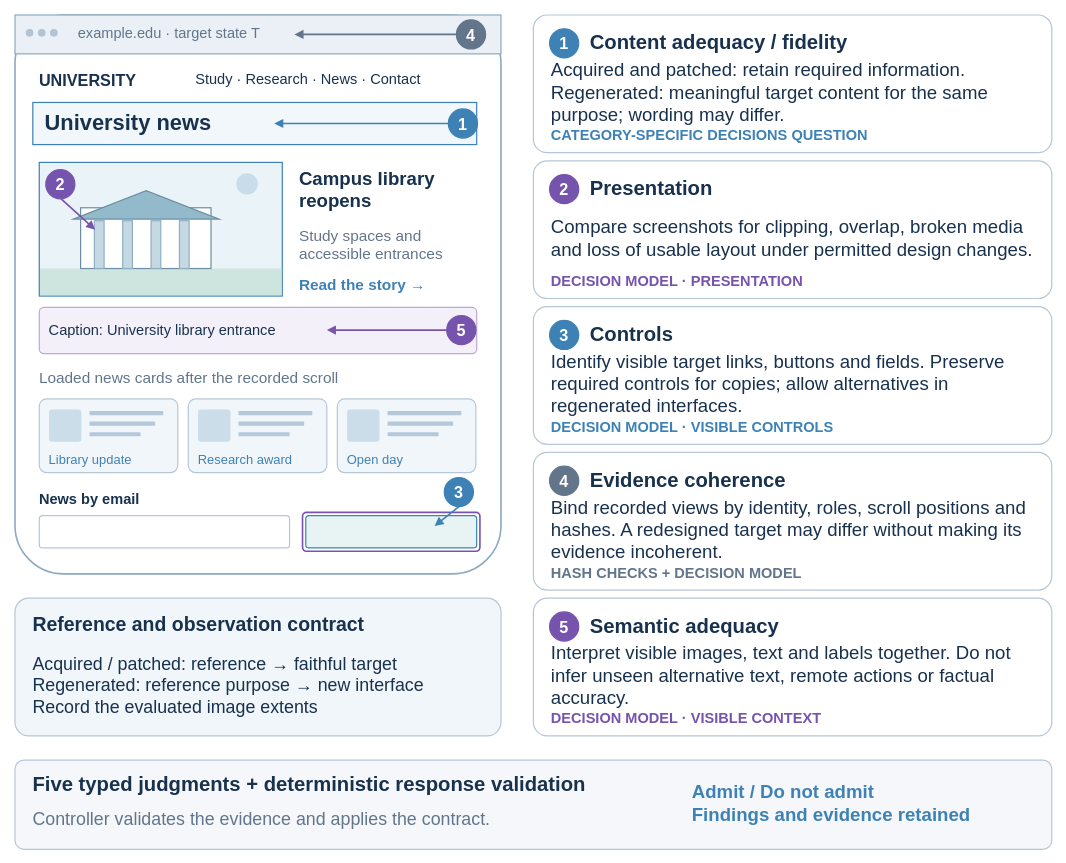
The diagram is 1066 pixels wide and 863 high, and some of its shapes have lost their labels. Each missing label, with the centre of its shape:
"name@example.edu" goes at point 164,531.
"Subscribe" goes at point 391,531.
